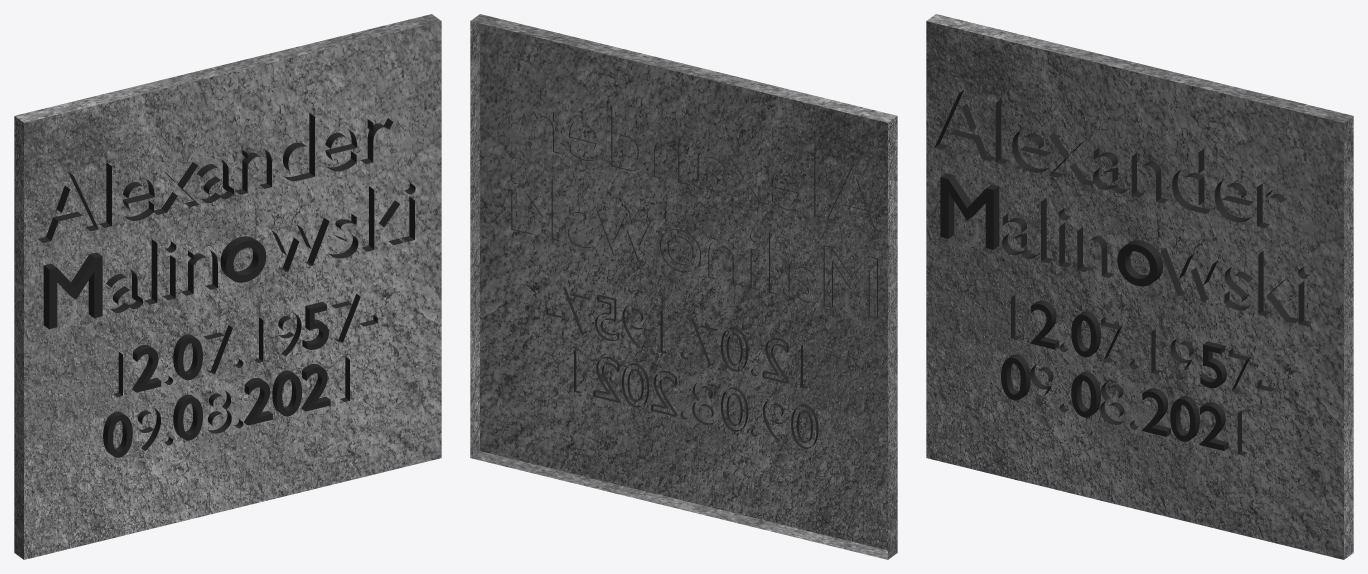
File: malinowski.gltf
3 views of the same model, side by side, from view 1: azimuth 30°, elevation 25°; view 2: azimuth 150°, elevation 25°; view 3: azimuth 330°, elevation 25° (orthographic).
Parts seen in each view (by area): view 1: Text; view 2: Text; view 3: Text.
Boxes of the visible parts, <box> form: Text: <box>14,14,441,559</box>; Text: <box>470,14,897,559</box>; Text: <box>926,14,1353,559</box>.
Size of the model in its own units: 2 by 2 by 0.1259.
Materials: 2 (1 with a texture image).
